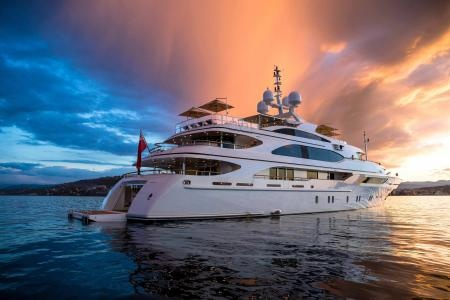yacht: (73, 65, 399, 230)
